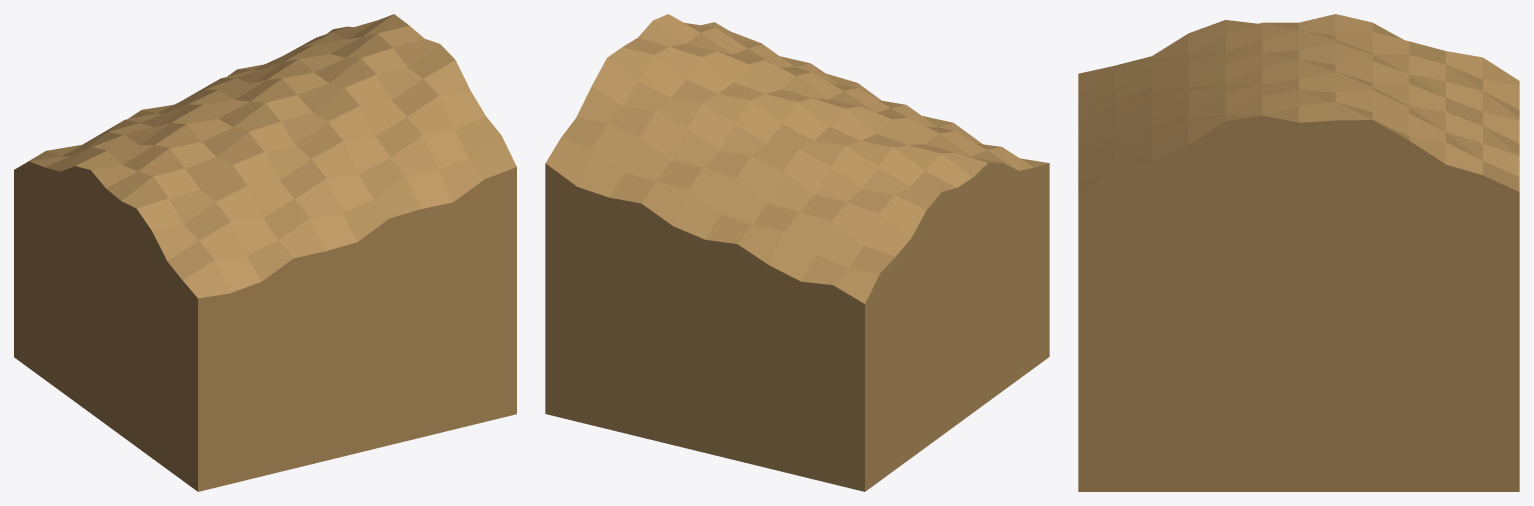
File: GoldFxRiffleSand.glb
3 renders of one model, left to right at view 1: azimuth 30°, elevation 25°; view 2: azimuth 150°, elevation 25°; view 3: azimuth 270°, elevation 25°, orthographic. The views are drawn at different scales.
Visible parts, largest first — view 1: GoldFxRiffleSand.001; view 2: GoldFxRiffleSand.001; view 3: GoldFxRiffleSand.001.
Part boxes in pixels (x1,y1,x2,y2): GoldFxRiffleSand.001: [14, 14, 516, 491]; GoldFxRiffleSand.001: [545, 14, 1049, 491]; GoldFxRiffleSand.001: [1078, 14, 1519, 491].
Size of the model in its own units: 1 by 0.9413 by 1.
